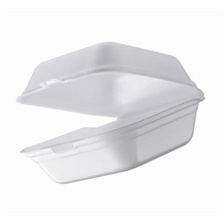foam_box: (8, 36, 209, 191)
